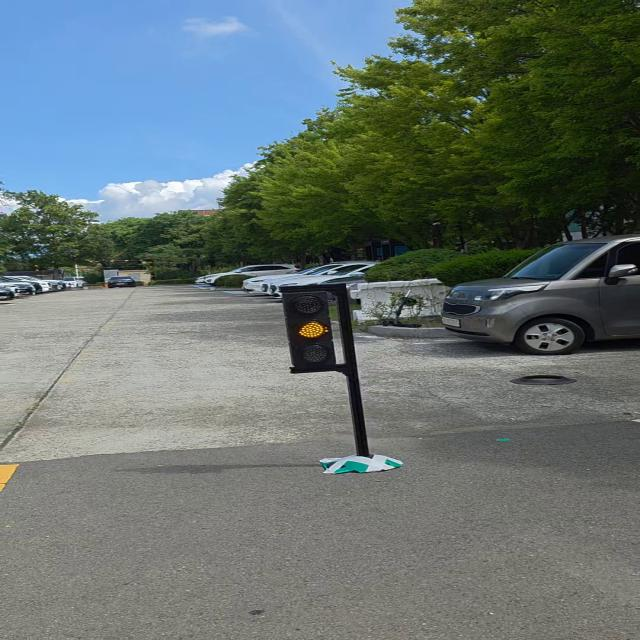yellow: (279, 286, 345, 377)
